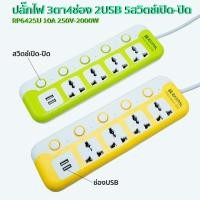Three_eye_plug: (29, 73, 194, 195), (16, 22, 167, 126)
